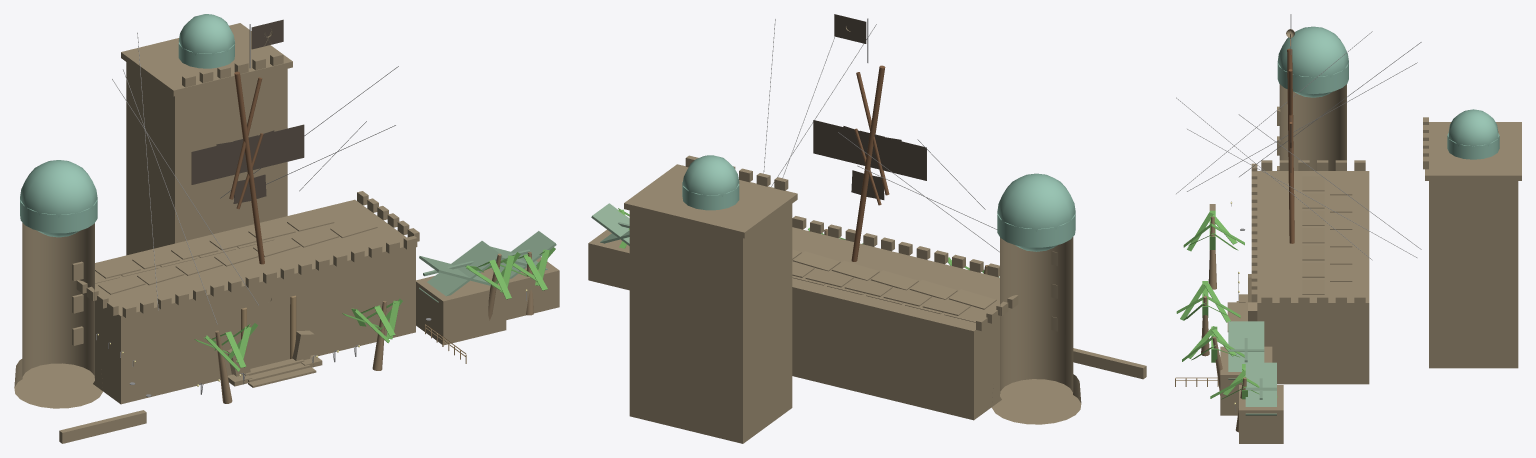
File: pirates_source.glb
3 views of the same model, side by side, from view 1: azimuth 30°, elevation 25°; view 2: azimuth 150°, elevation 25°; view 3: azimuth 270°, elevation 25° (orthographic). The views are drawn at different scales.
Parts seen in each view (by area): view 1: stone_building, copper_patina, banner, palm_leaves, roof_tile, metal_lanterns, palm_trunks, mast, weathered_wood, yard1; view 2: stone_building, copper_patina, banner, mast, metal_lanterns, roof_tile; view 3: stone_building, copper_patina, roof_tile, palm_leaves, metal_lanterns, palm_trunks, mast.
Part boxes in pixels (bbox=[...]): stone_building: bbox=[14, 23, 559, 443]; copper_patina: bbox=[20, 14, 234, 237]; banner: bbox=[191, 19, 304, 203]; palm_leaves: bbox=[194, 247, 555, 371]; roof_tile: bbox=[419, 231, 556, 302]; metal_lanterns: bbox=[96, 24, 526, 396]; palm_trunks: bbox=[215, 252, 533, 403]; mast: bbox=[234, 71, 264, 264]; weathered_wood: bbox=[241, 295, 466, 363]; yard1: bbox=[229, 77, 262, 199]; stone_building: bbox=[588, 26, 1146, 443]; copper_patina: bbox=[682, 155, 1075, 251]; banner: bbox=[813, 14, 926, 199]; mast: bbox=[851, 65, 885, 261]; metal_lanterns: bbox=[763, 18, 999, 252]; roof_tile: bbox=[591, 203, 629, 245]; stone_building: bbox=[1209, 29, 1521, 443]; copper_patina: bbox=[1277, 26, 1499, 159]; roof_tile: bbox=[1228, 321, 1276, 415]; palm_leaves: bbox=[1176, 210, 1277, 399]; metal_lanterns: bbox=[1176, 14, 1421, 412]; palm_trunks: bbox=[1201, 216, 1246, 432]; mast: bbox=[1287, 48, 1294, 243].
Bounding box in the file's own units: 73.75 × 45.16 × 46.56.
